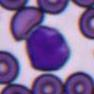L: (25, 26, 70, 71)
